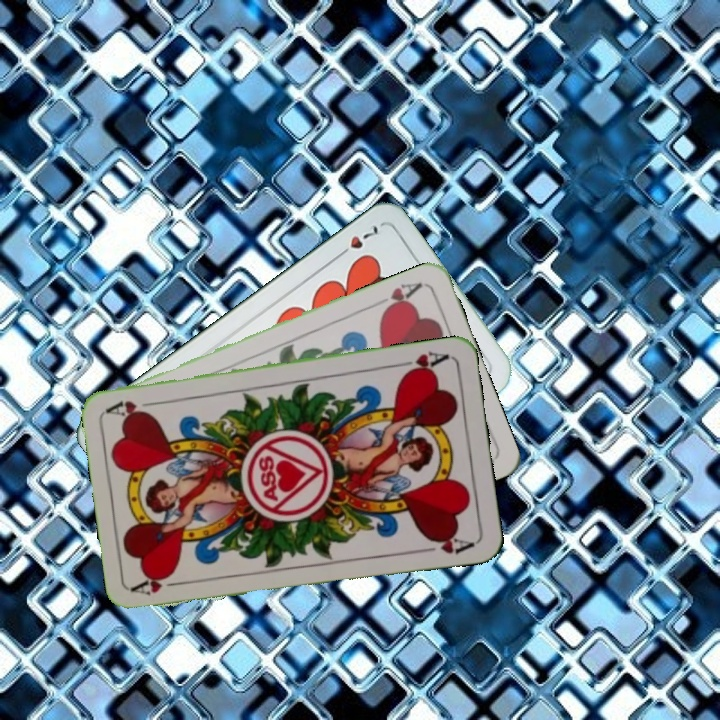H7: (332, 221, 381, 261)
HA: (369, 278, 426, 316), (392, 347, 451, 378), (130, 570, 189, 598)
